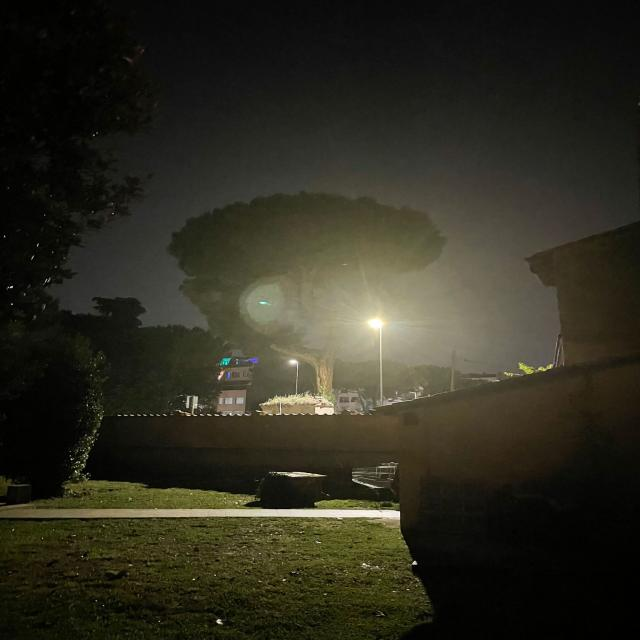lampione: (363, 308, 392, 344), (280, 349, 308, 376)
